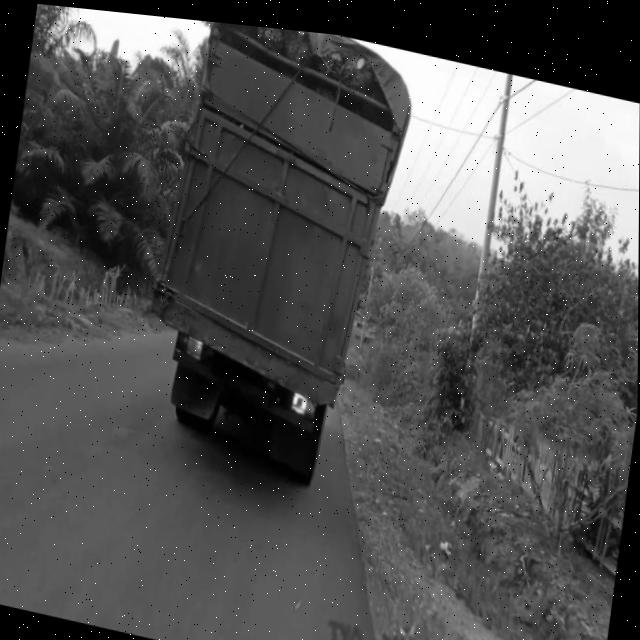truck: (133, 12, 421, 512)
